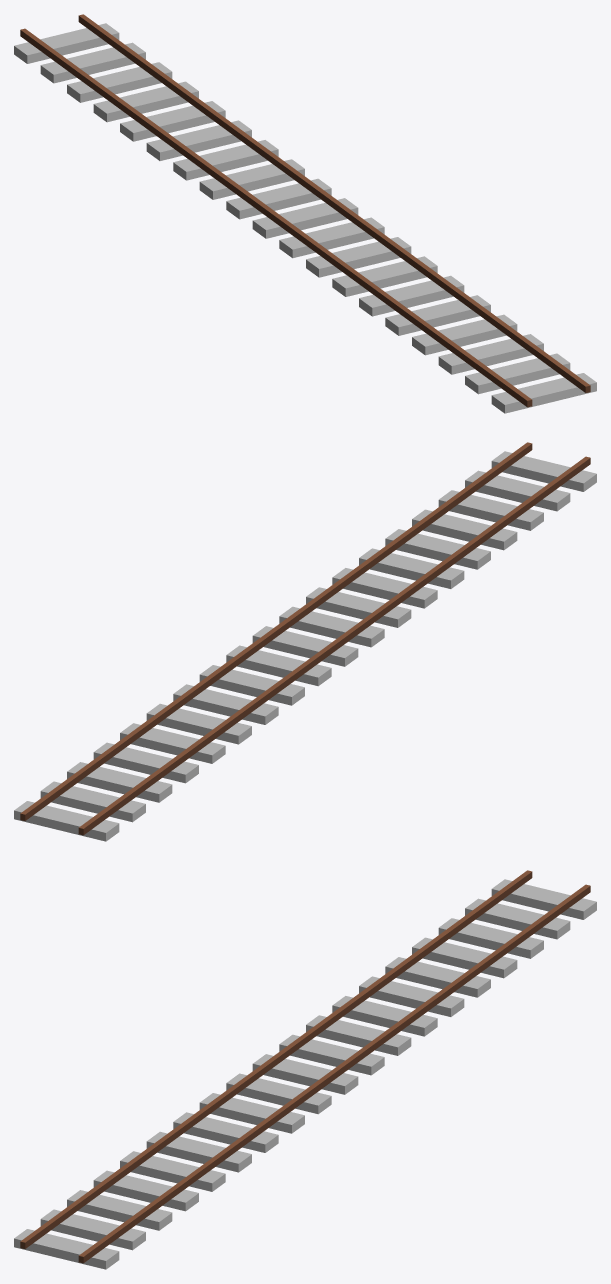
File: Rails_Track_25m.glb
3 views of the same model, one above another, from view 1: azimuth 30°, elevation 25°; view 2: azimuth 150°, elevation 25°; view 3: azimuth 330°, elevation 25° (orthographic).
Visible parts, largest first — view 1: Rails_Track_25m; view 2: Rails_Track_25m; view 3: Rails_Track_25m.
Boxes of the visible parts, left/top/right/bottom form: Rails_Track_25m: left=14, top=14, right=596, bottom=413; Rails_Track_25m: left=14, top=442, right=596, bottom=841; Rails_Track_25m: left=14, top=870, right=596, bottom=1269.
Bounding box in the file's own units: 2.62 × 0.4135 × 25.
Materials: 1 (1 with a texture image).
